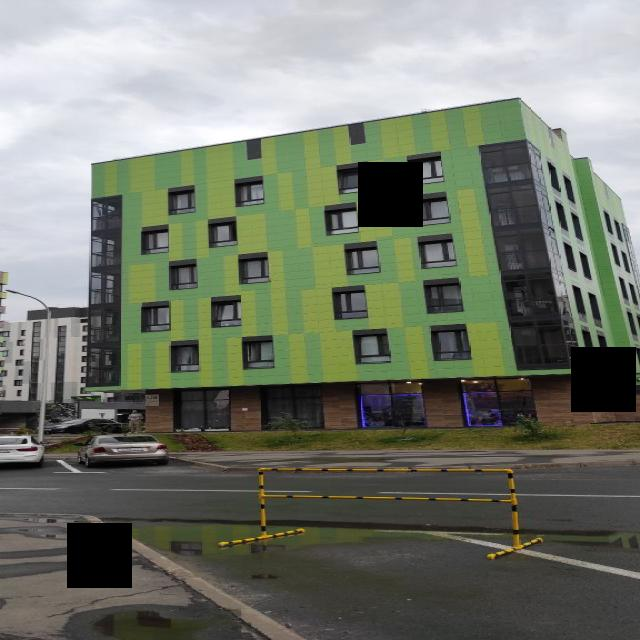Building: (85, 97, 640, 434)
